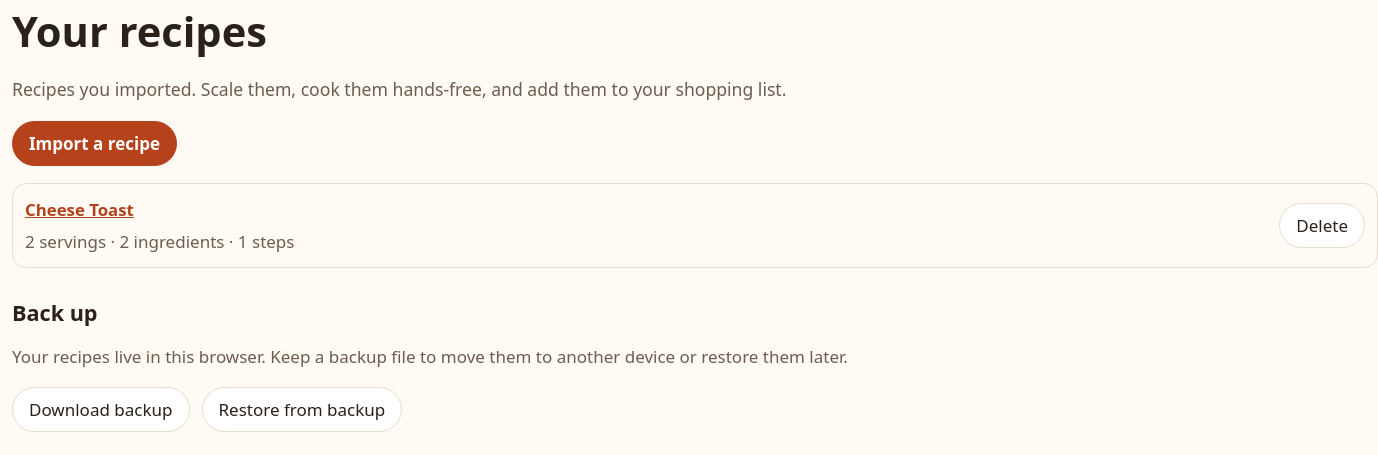
Test case: MyRecipes › lists your recipes and deletes one after a second tap
Expected: the text "2 servings · 2 ingredients · 1 steps" is shown, [25,228,294,255]
Click the button named "Delete Cheese Toast".
click(1322, 225)  # box [1279,203,1365,248]
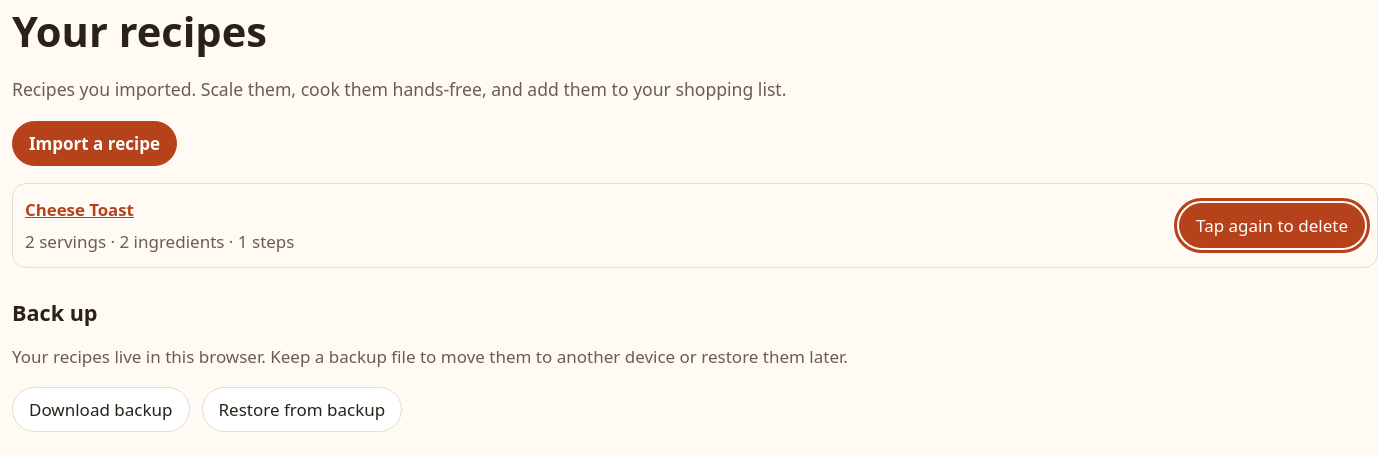
Click the button named "Tap again to delete Cheese Toast".
click(1272, 225)  # box [1179,203,1365,248]
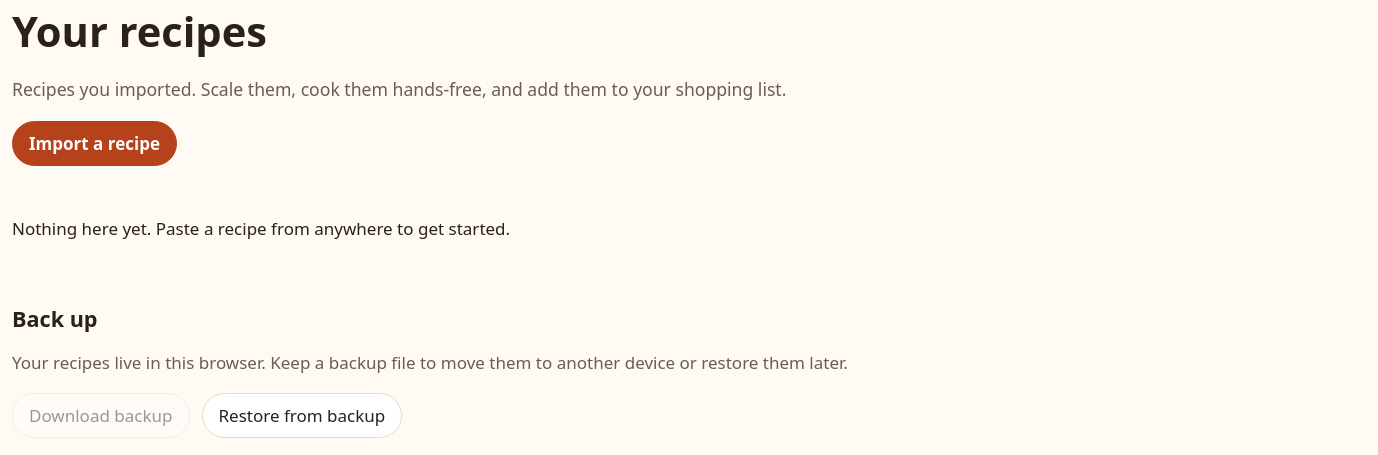
Expected: the text "Nothing here yet" is shown, [12,217,510,240]
